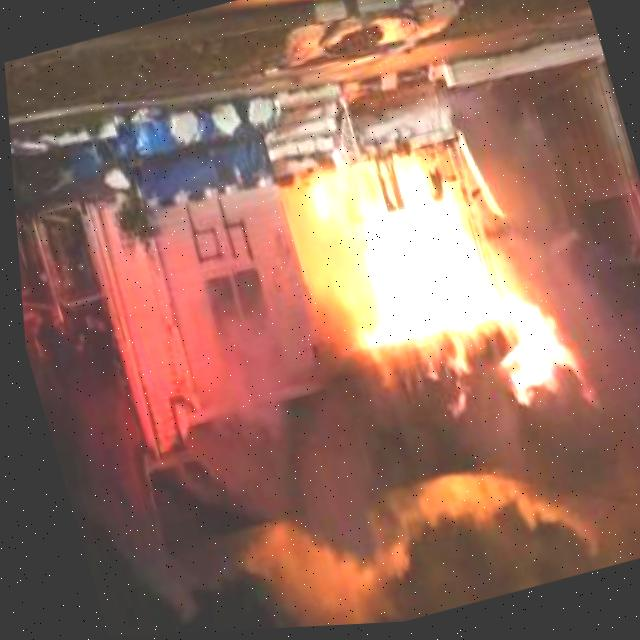Fire: (288, 111, 604, 474)
